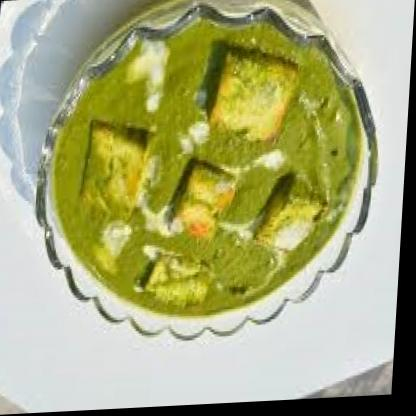palak_paneer: (48, 13, 368, 325)
